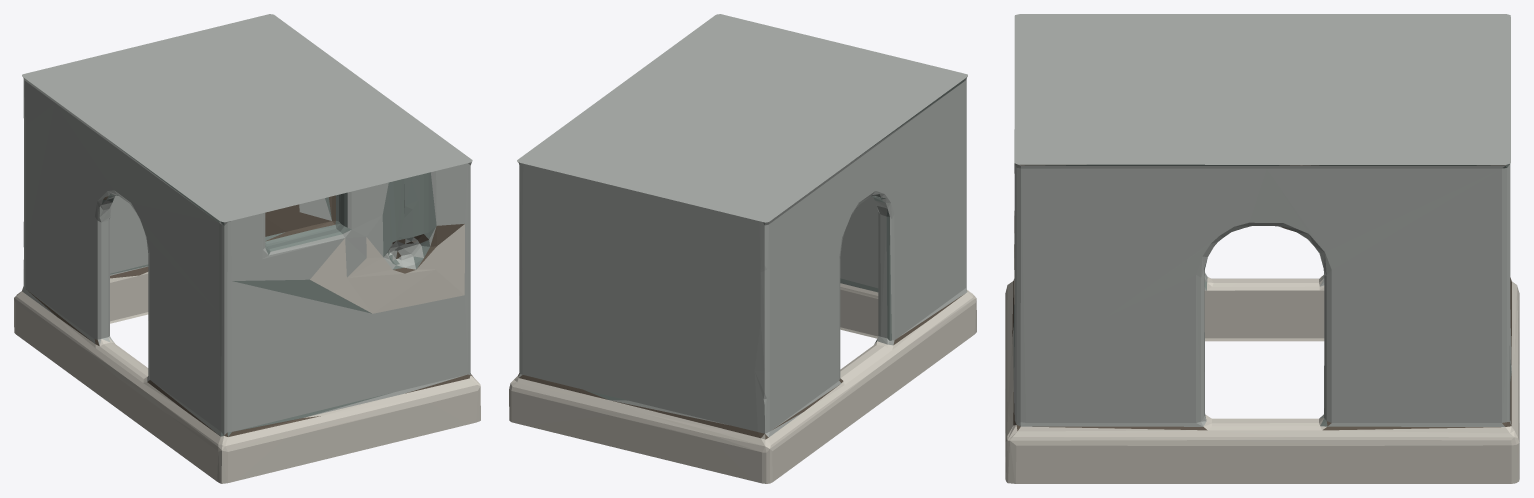
The model's file is etape-1.glb.
3 views of the same model, side by side, from view 1: azimuth 30°, elevation 25°; view 2: azimuth 150°, elevation 25°; view 3: azimuth 270°, elevation 25° (orthographic). The views are drawn at different scales.
Parts seen in each view (by area): view 1: geometry_0; view 2: geometry_0; view 3: geometry_0.
Part boxes in pixels (box(x1,y1,x2,y2)): geometry_0: box(14, 14, 480, 483); geometry_0: box(509, 14, 976, 483); geometry_0: box(1005, 14, 1519, 483).
Size of the model in its own units: 0.5938 by 0.5586 by 0.8232.
